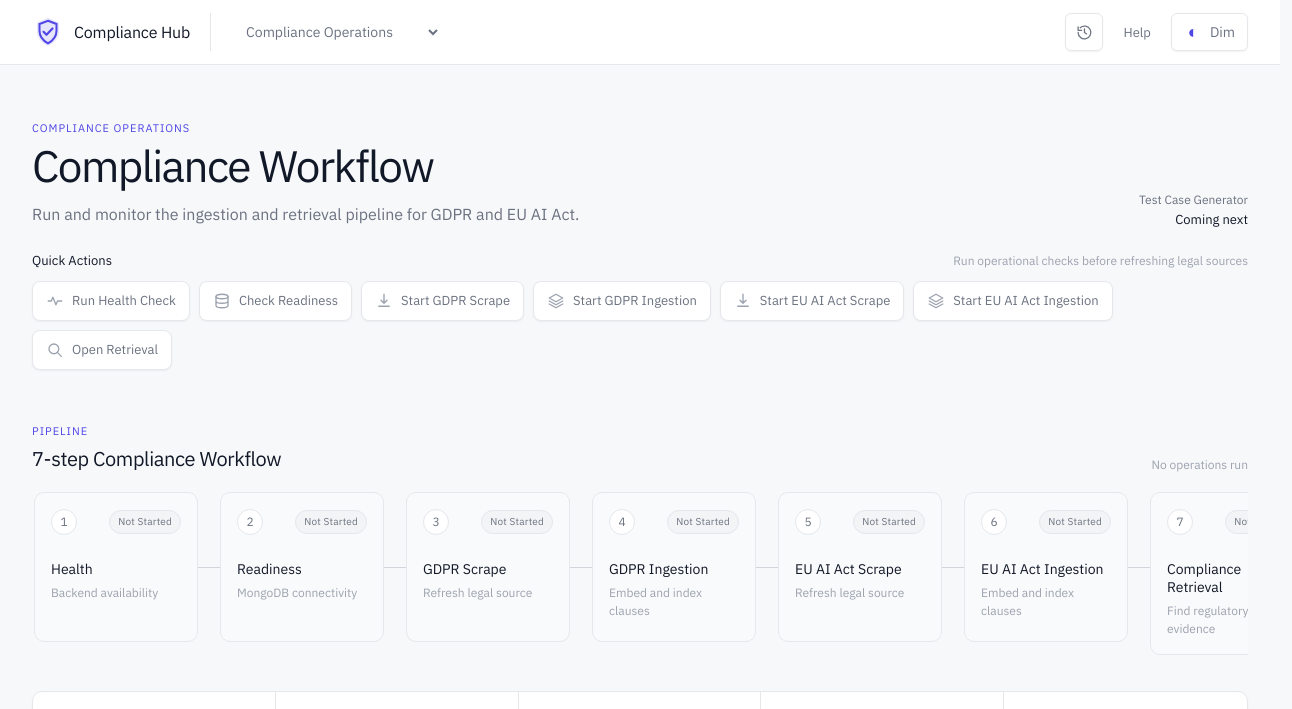
Test: compliance retrieval UI › identifies Cohere when it reranks after Groq is unavailable
Step 1. Click the button "Open Retrieval" → x=102, y=350, box [32,330,172,370]
(page scrolled)
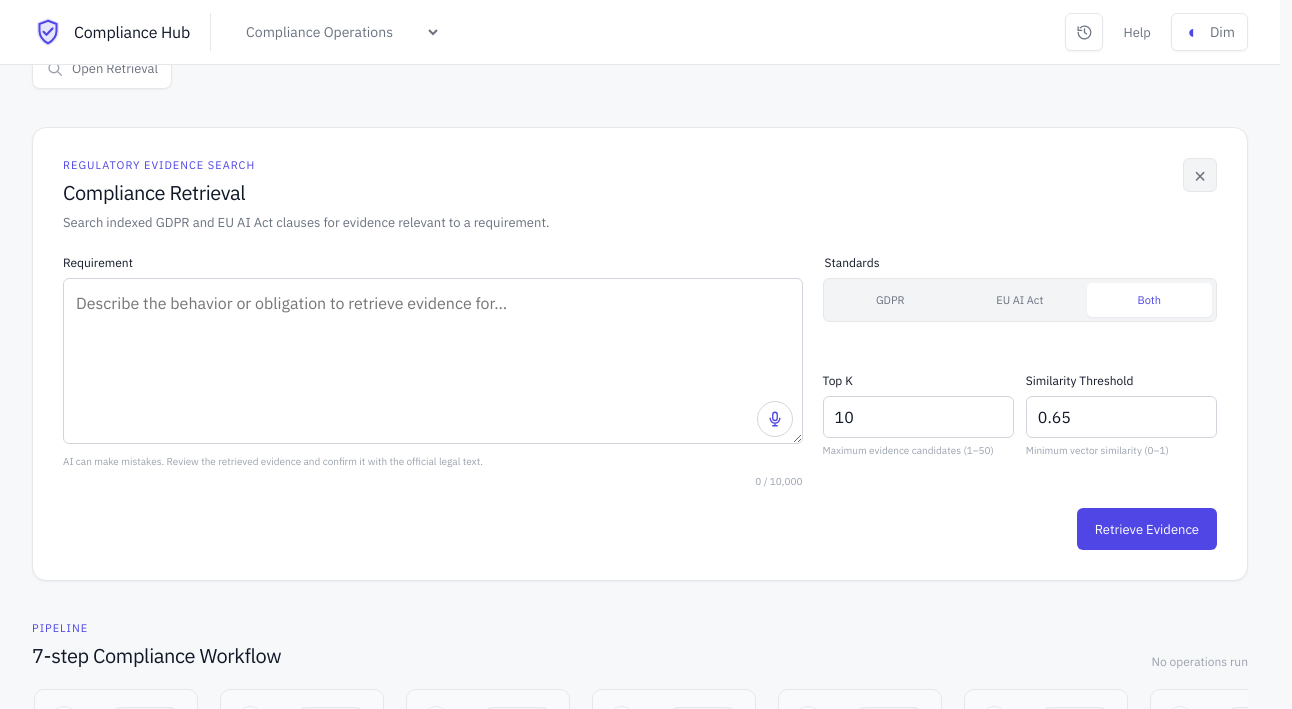
Step 2. Replace the text in the text box labelled "Requirement" with "Users can request data deletion." → x=433, y=361, box [63,278,803,444]
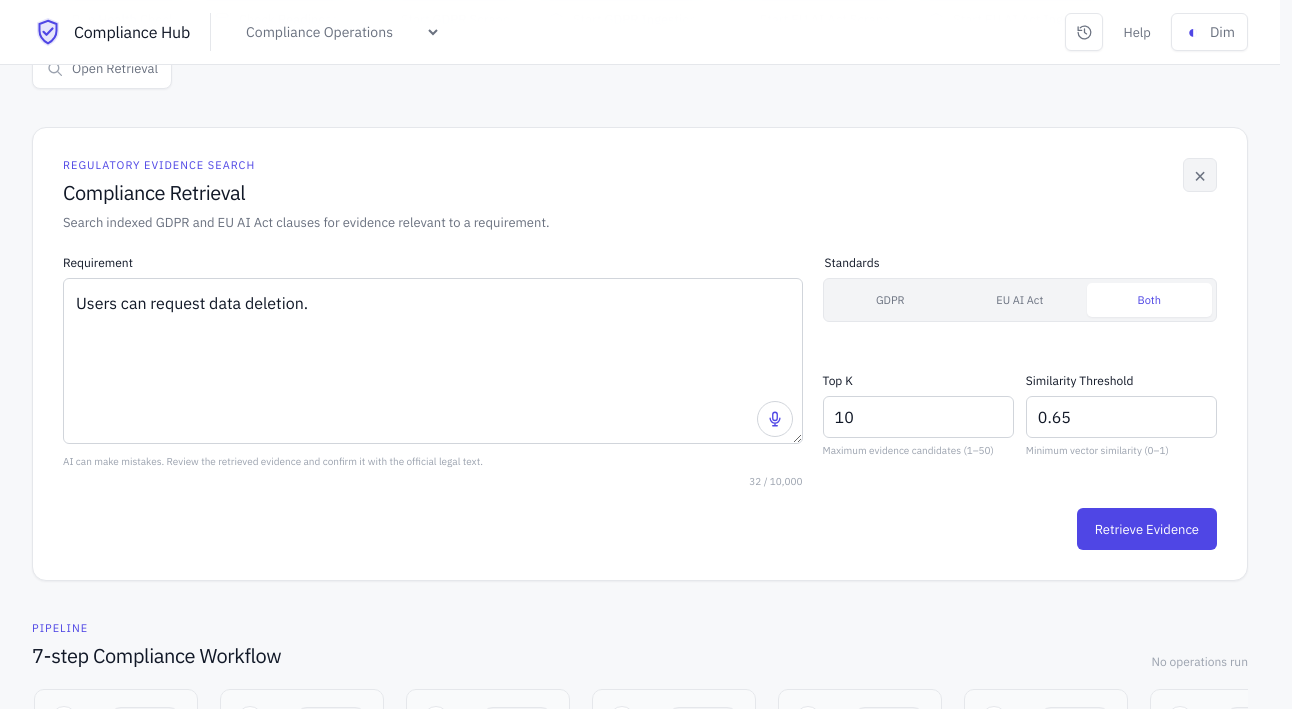
Step 3. Click the button "Retrieve Evidence" → x=1147, y=530, box [1077,508,1217,550]
(page scrolled)
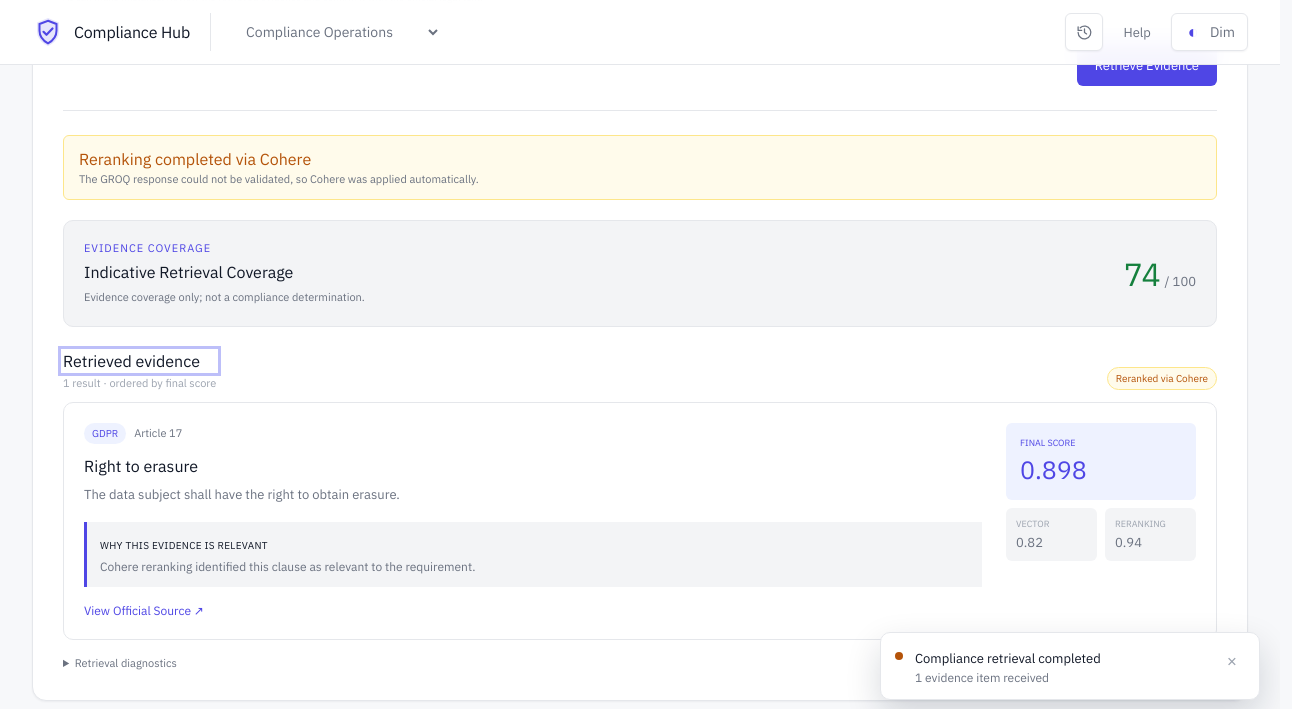
Expected: the text "The GROQ response could not be validated, so Cohere was applied automatically." is shown, [79,172,479,186]
